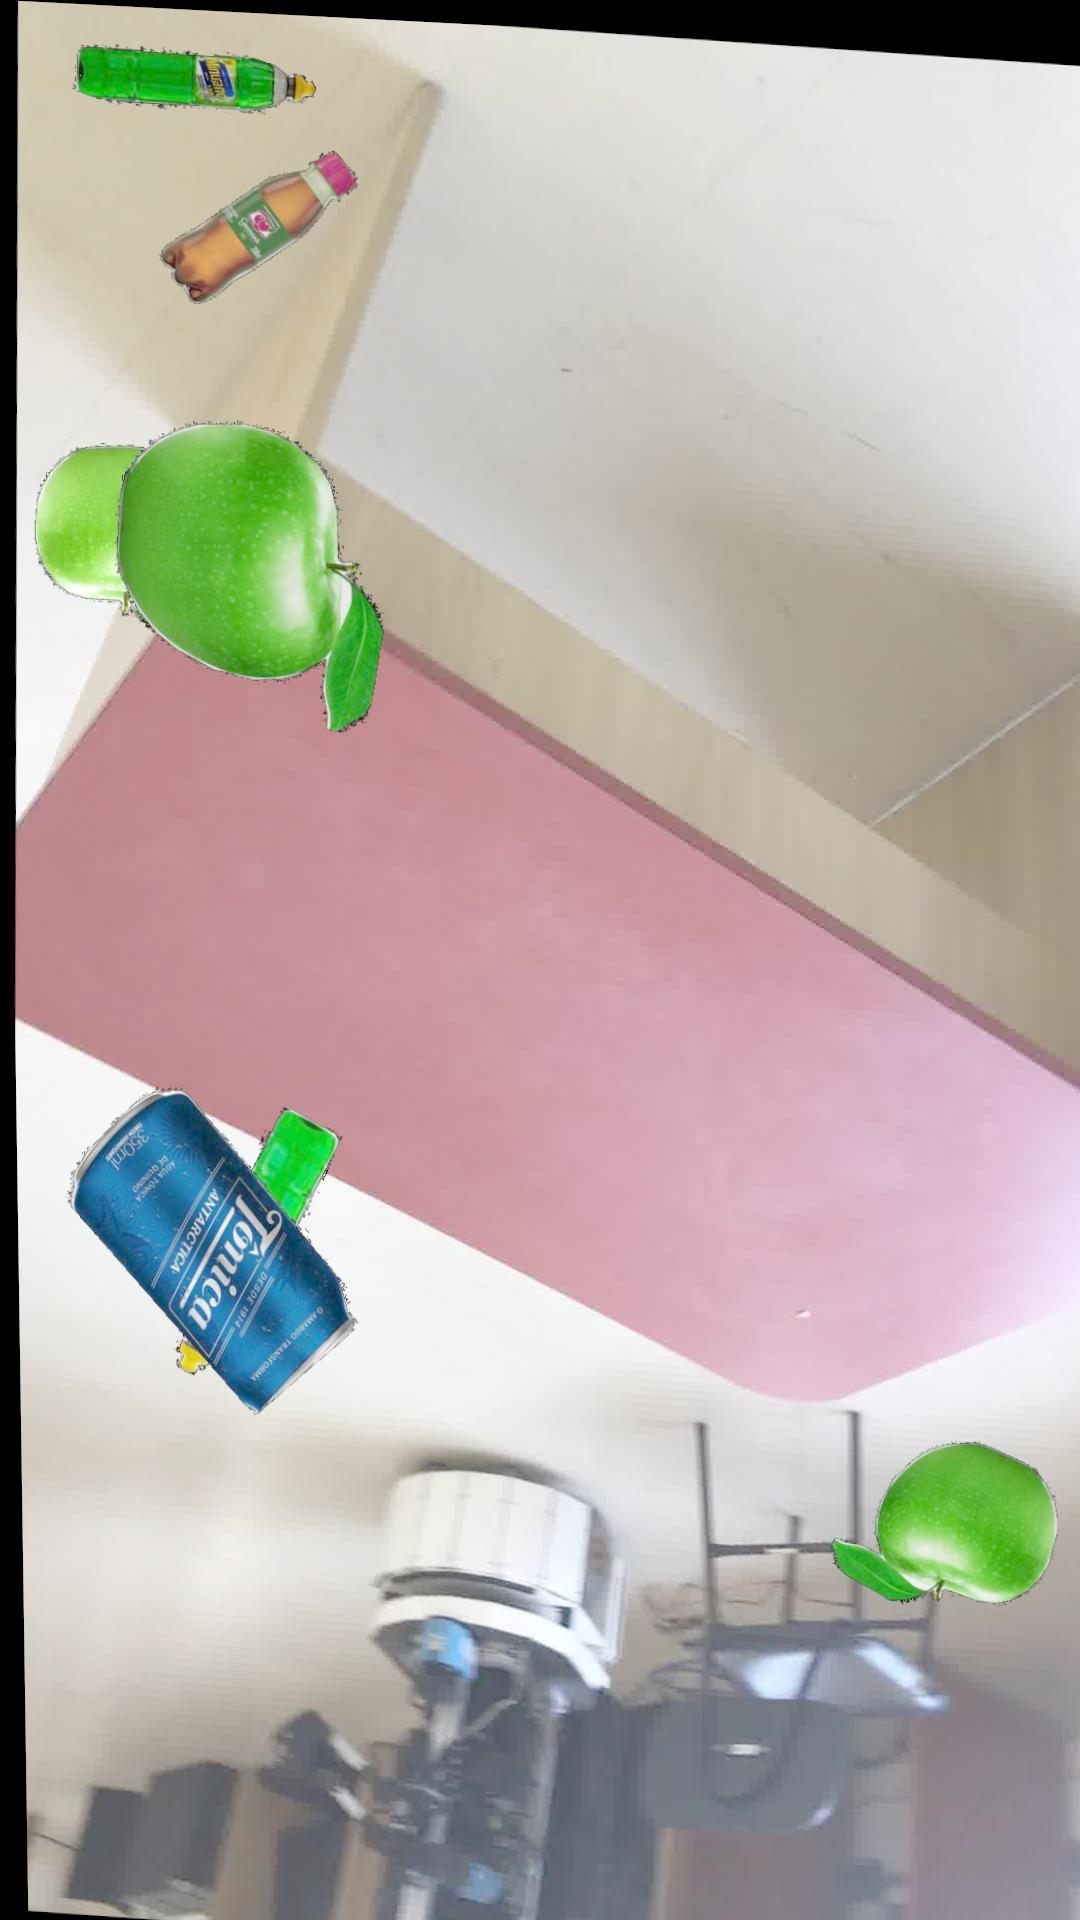cleaner: (76, 44, 315, 111)
green apple: (115, 421, 381, 729), (827, 1432, 1054, 1596), (33, 444, 145, 621)
guarana: (160, 148, 357, 302)
tonic: (65, 1087, 352, 1412)
